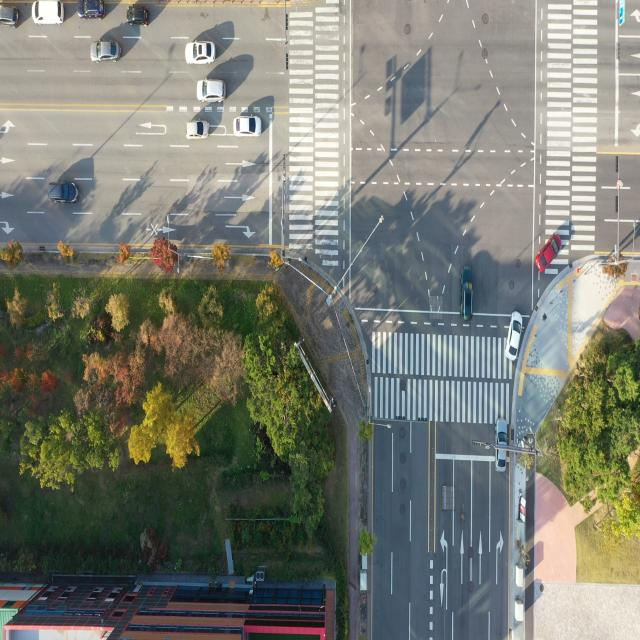car: (536, 229, 563, 276), (504, 312, 524, 365), (184, 37, 218, 67), (92, 34, 122, 66), (462, 262, 478, 322), (28, 0, 64, 23), (495, 417, 508, 477), (126, 2, 152, 30), (232, 113, 262, 137), (49, 181, 78, 205), (198, 78, 225, 102), (184, 118, 212, 140), (0, 4, 21, 29), (77, 0, 106, 18)
